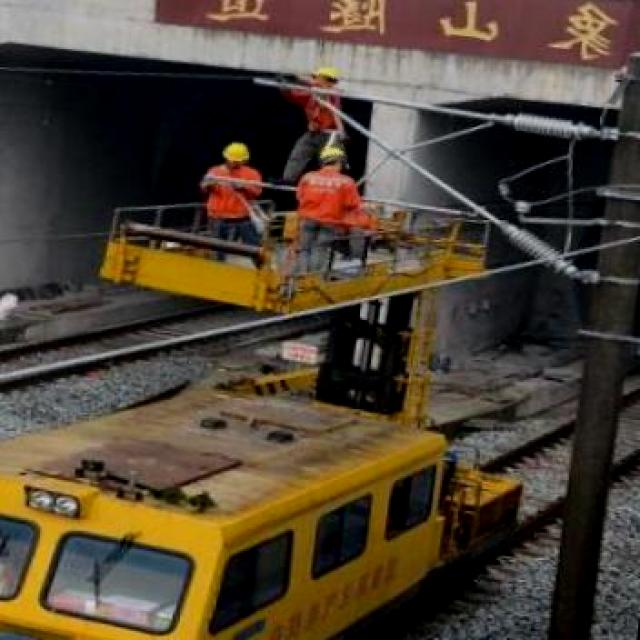helmet: (223, 141, 252, 164), (317, 144, 348, 165), (313, 65, 340, 82)
